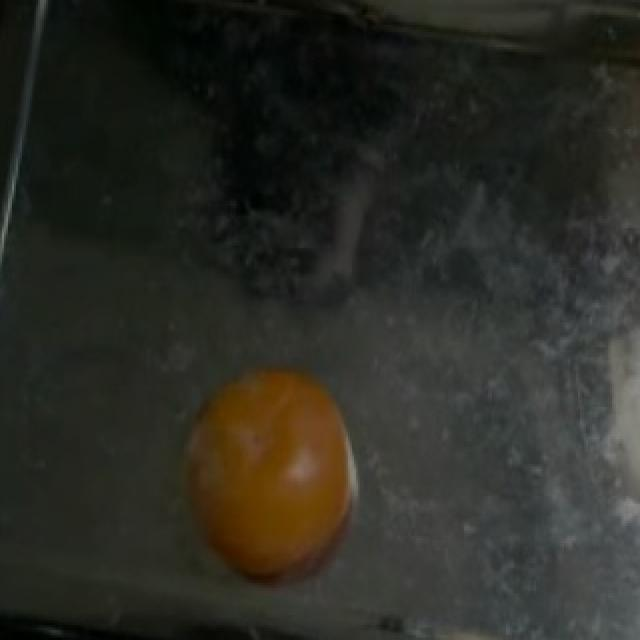Fruit: (152, 345, 376, 603)
